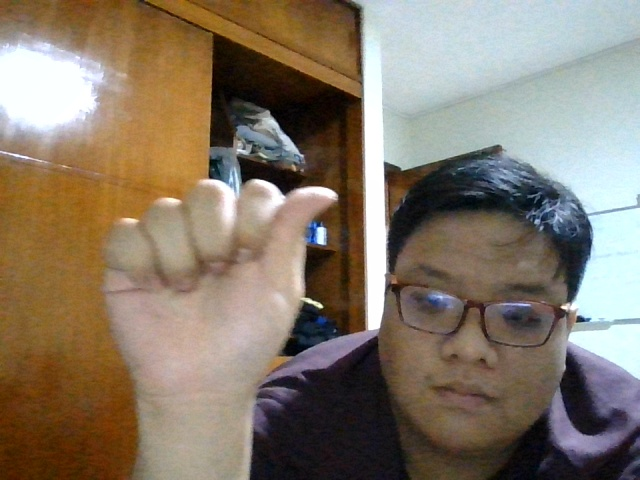a: (96, 172, 347, 406)
